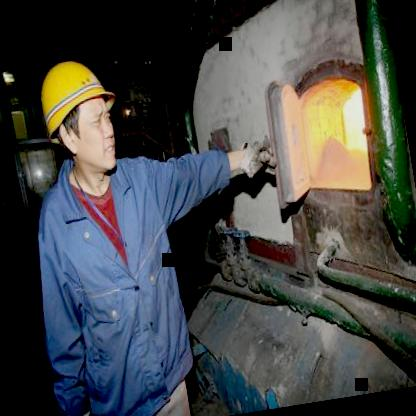helmet: (21, 40, 130, 190)
